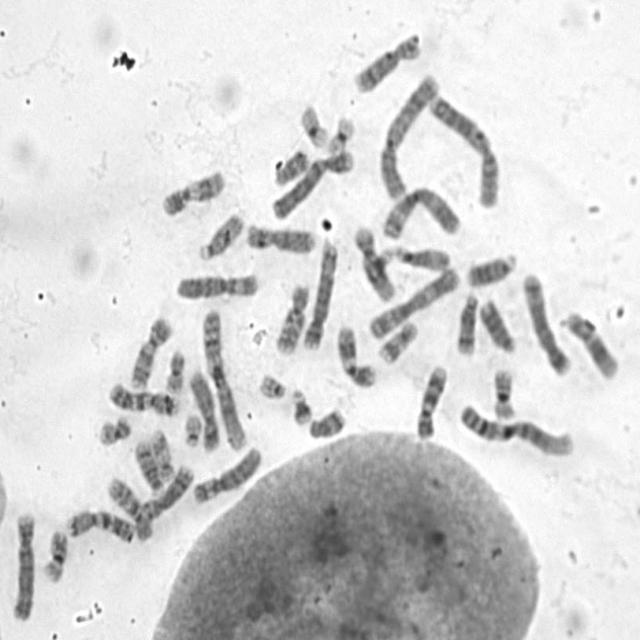A1: (199, 304, 250, 452), (456, 397, 577, 458)
A2: (425, 89, 503, 209), (376, 68, 441, 202)
A3: (363, 260, 463, 342), (378, 180, 464, 241)
B4: (266, 143, 356, 222), (6, 507, 37, 622)
B5: (519, 266, 573, 377), (299, 233, 339, 352)
C10: (104, 471, 156, 543), (271, 276, 313, 358)
C11: (157, 164, 227, 218), (334, 320, 378, 390)
C12: (561, 304, 622, 381), (351, 220, 396, 303)
C6: (189, 441, 264, 506), (172, 267, 262, 302)
C7: (104, 376, 181, 418), (61, 503, 138, 544)
C8: (349, 26, 423, 94), (137, 459, 196, 522)
C9: (126, 311, 175, 391), (412, 358, 450, 441)
D13: (475, 294, 518, 356), (462, 246, 518, 288)
D14: (131, 436, 165, 496), (452, 288, 480, 357)
D15: (194, 206, 247, 263), (390, 239, 452, 272)
E16: (488, 362, 519, 422), (39, 524, 70, 584)
E17: (374, 315, 419, 366), (148, 423, 178, 483)
E18: (270, 143, 310, 188), (304, 403, 348, 440)
F19: (296, 99, 330, 149), (323, 111, 357, 155)
F20: (95, 410, 134, 447), (162, 345, 188, 395)
G21: (288, 382, 314, 428), (367, 248, 394, 284)
G22: (254, 368, 288, 401), (180, 408, 204, 448)
X: (186, 366, 222, 454), (242, 217, 318, 256)
